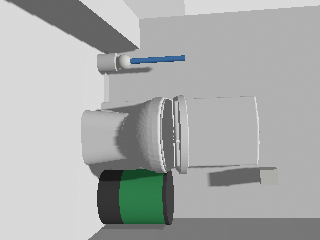lid_1: (172, 95, 188, 173)
